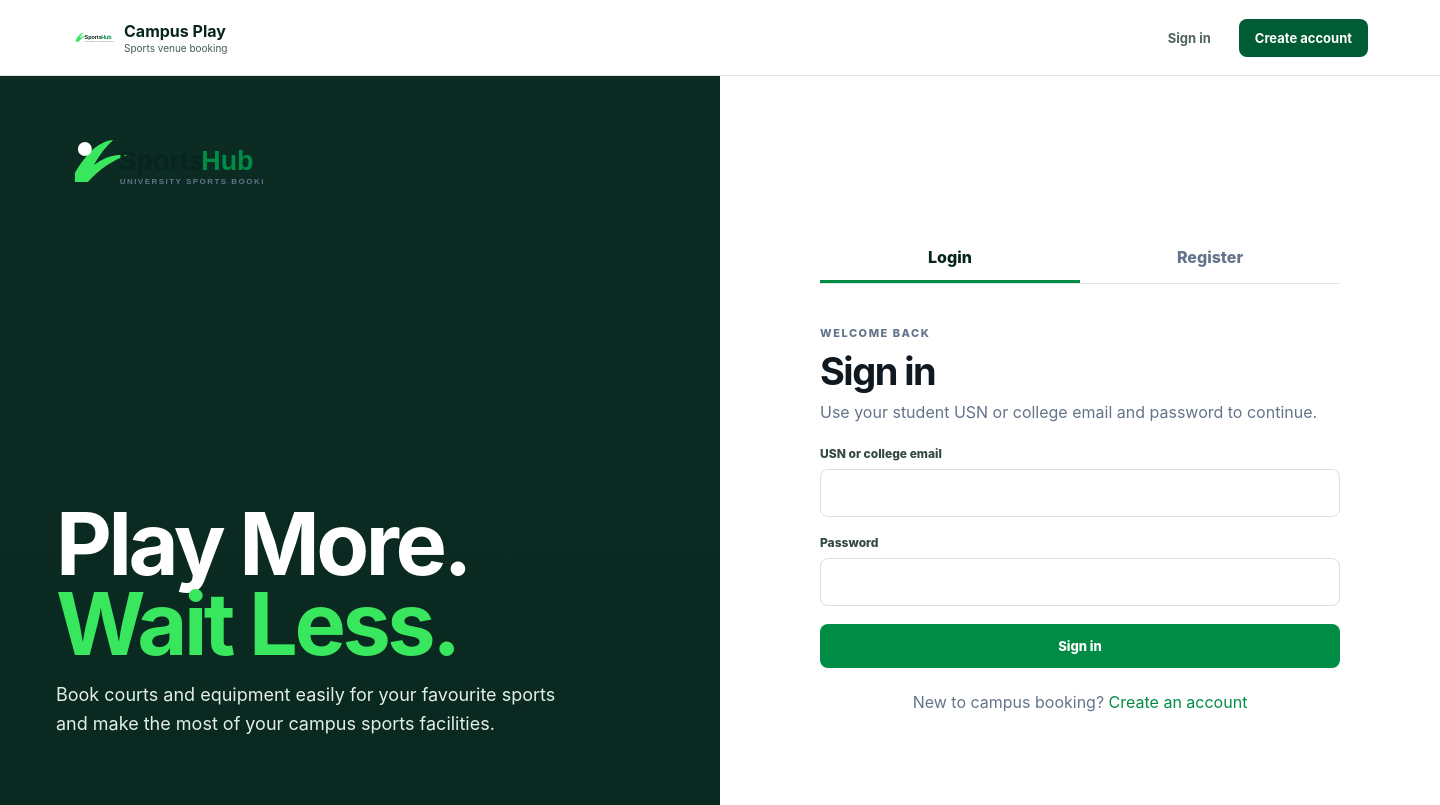
Test: student frontend workflow › stores the login token and uses it for profile and catalog requests
Type "1AB23CS001" into the field labelled "USN or college email" at (1080, 493), box top-left (820, 469), bottom-right (1340, 517)
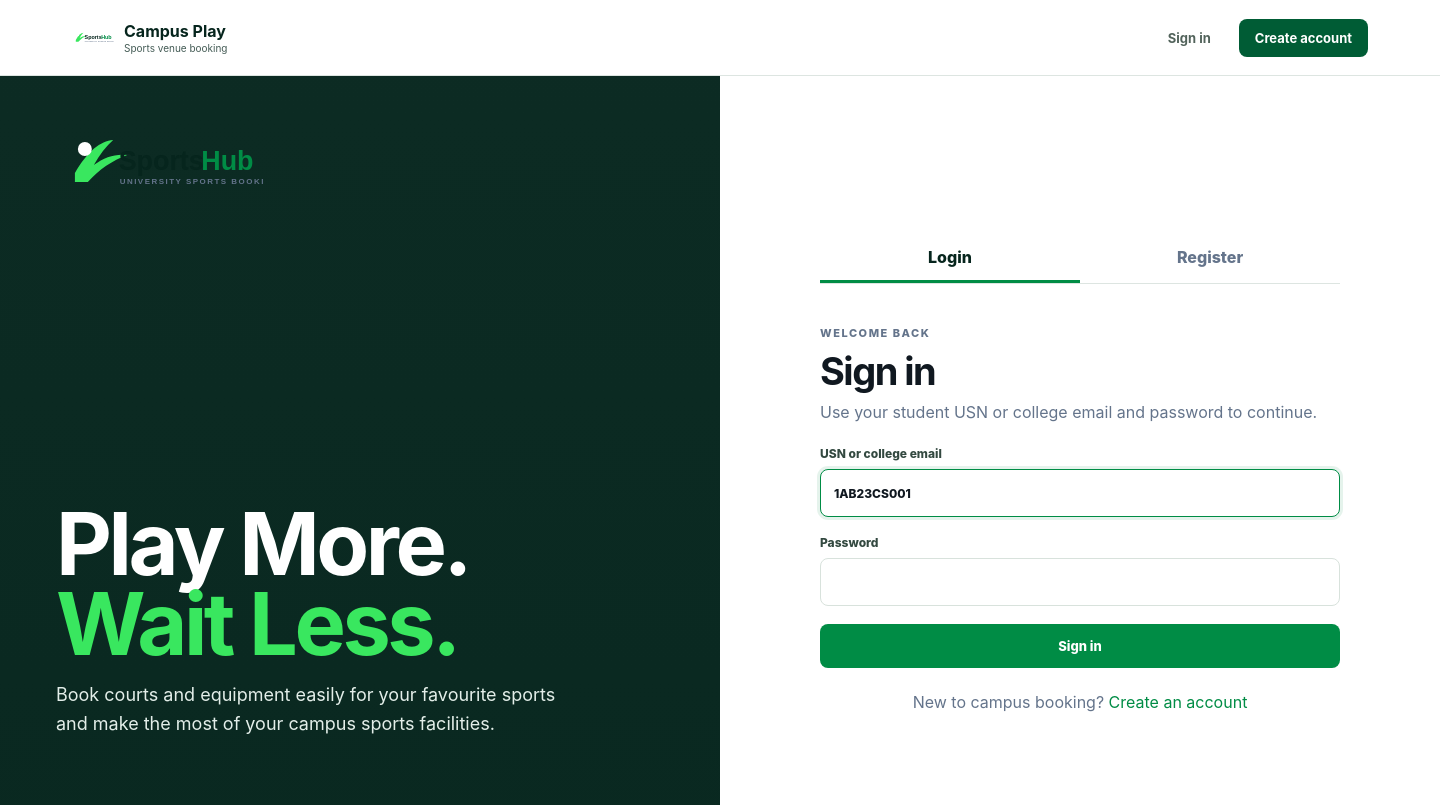
Type "strong-password" into the password field labelled "Password" at (1080, 582), box top-left (820, 558), bottom-right (1340, 606)
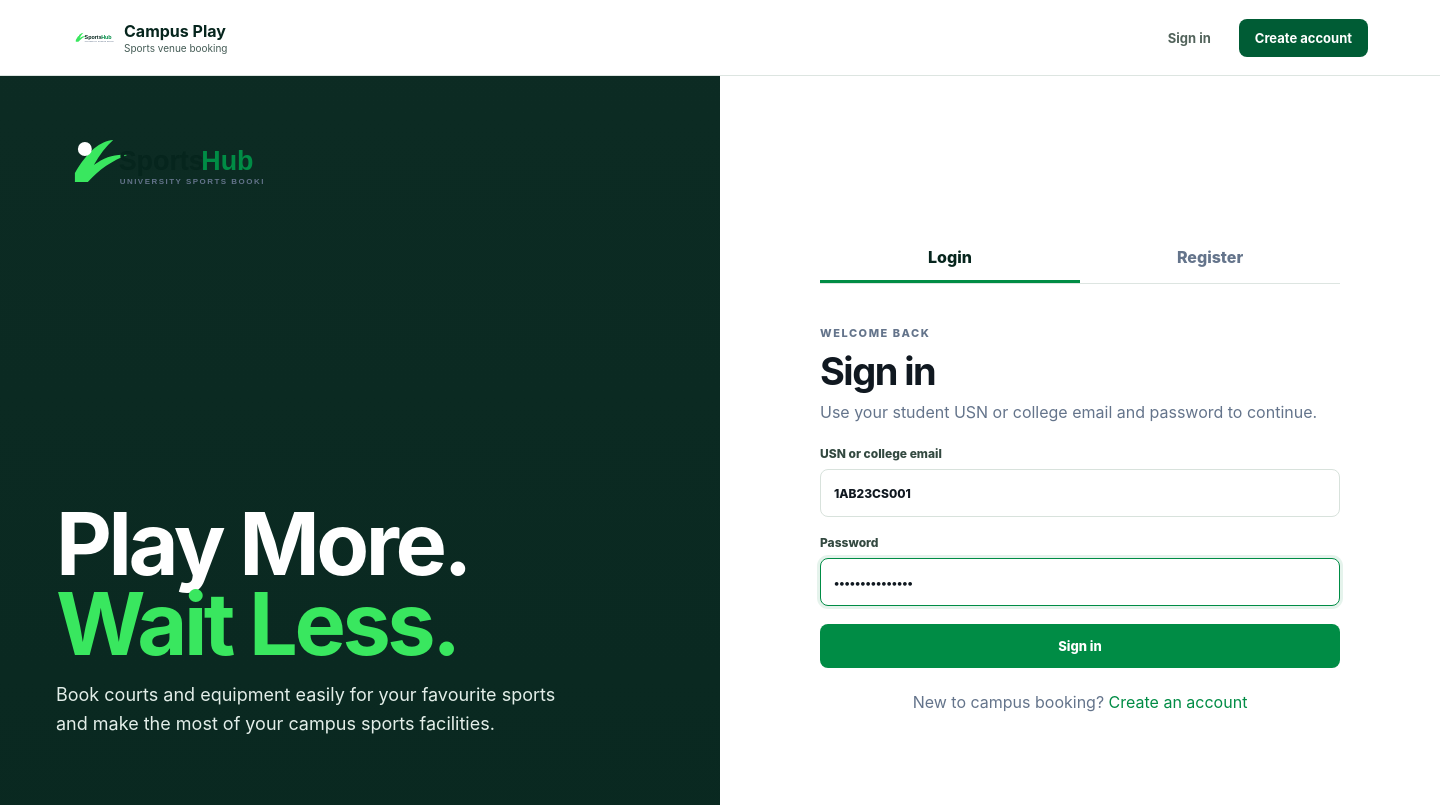
Click the button "Sign in" at (1080, 646), box top-left (820, 624), bottom-right (1340, 668)
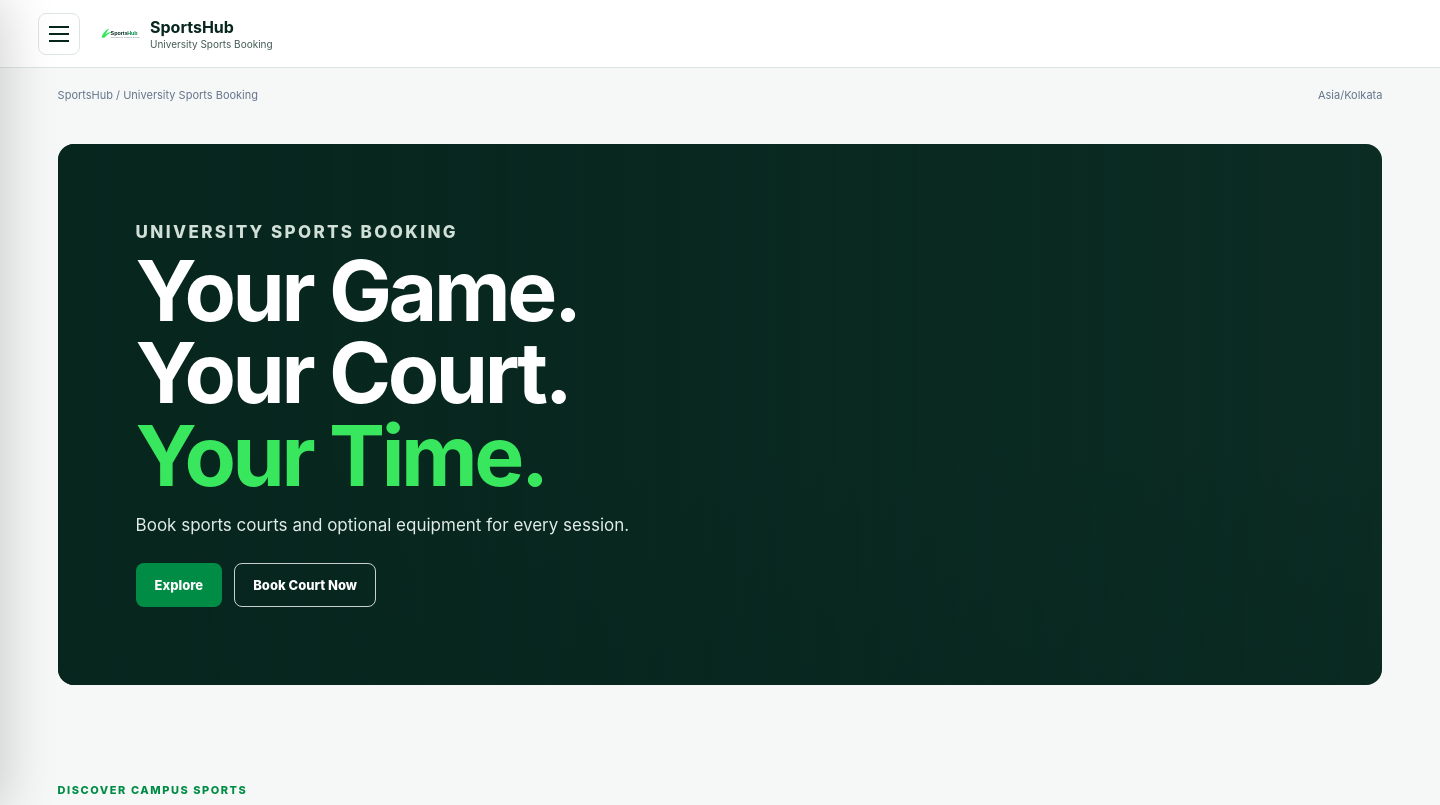
Click the button named "Open navigation" at (59, 34), box top-left (38, 12), bottom-right (80, 54)
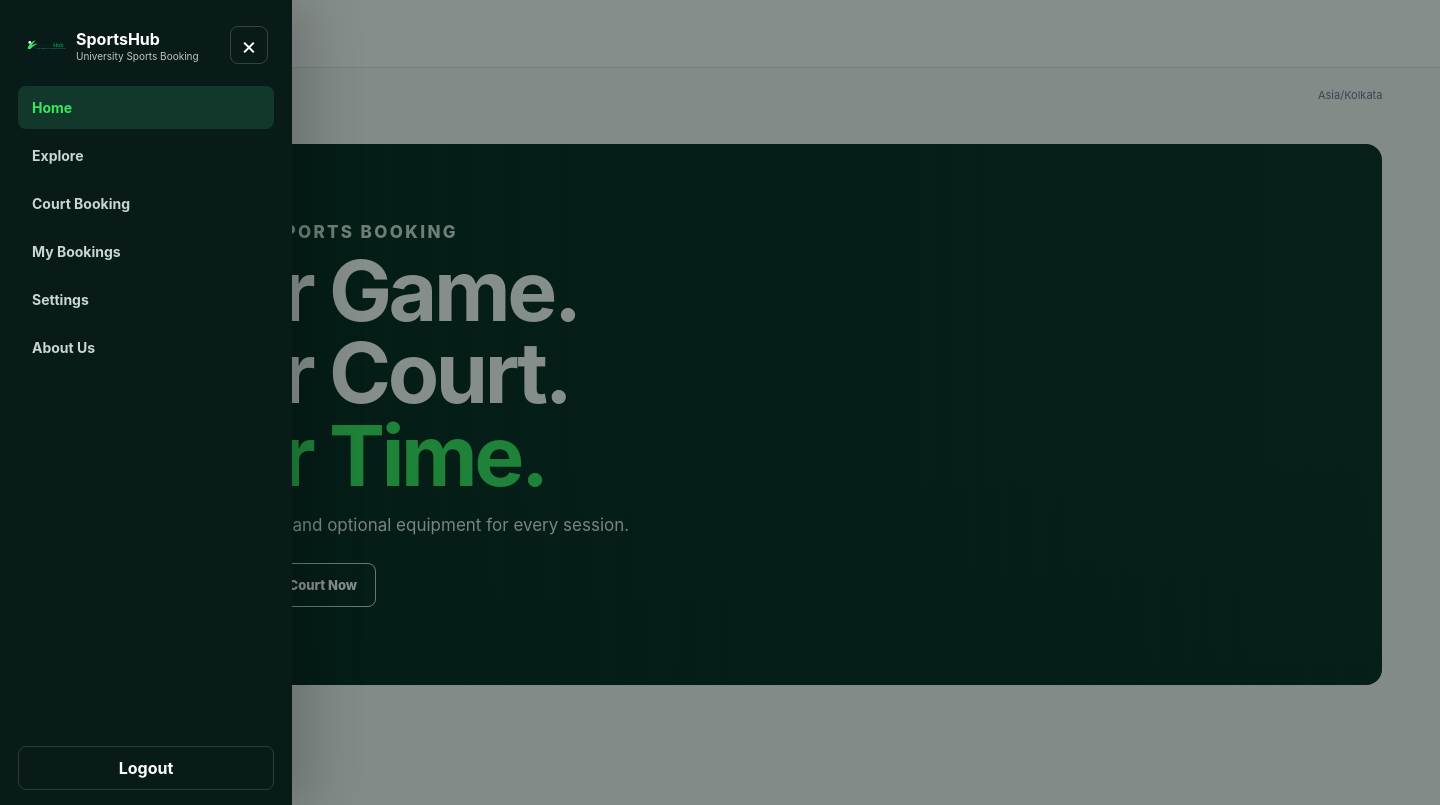
Expected: the link "Explore" is shown, top-left (32, 147), bottom-right (84, 164)
Expected: the button named "Open navigation" is expanded, top-left (38, 12), bottom-right (80, 54)
